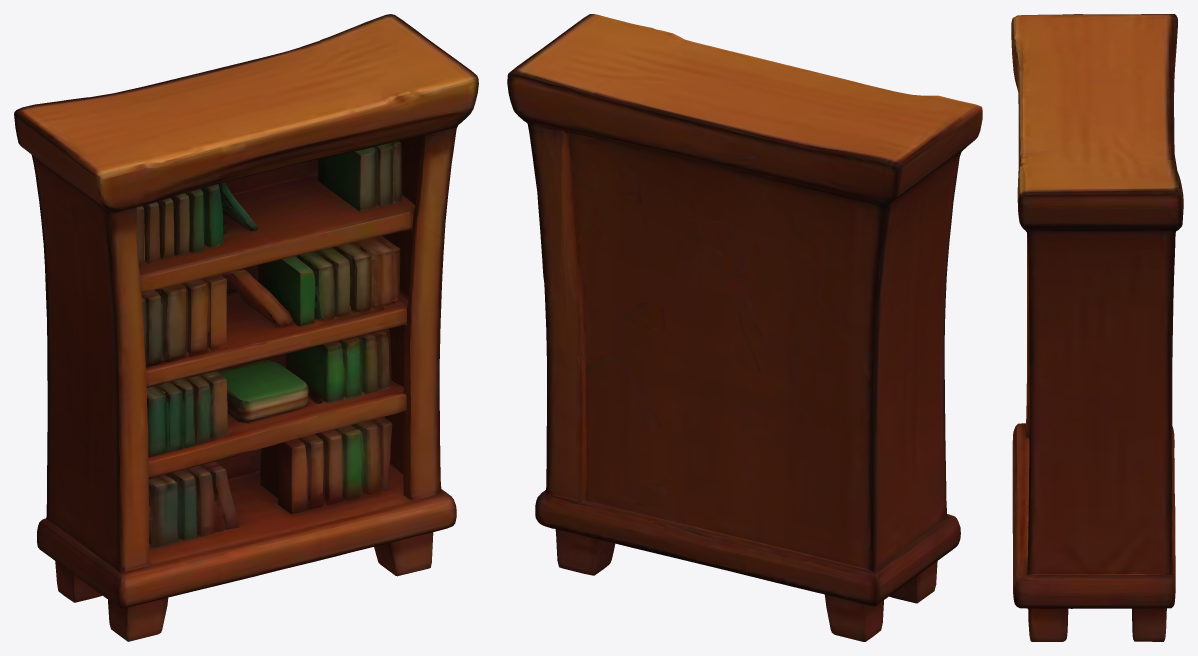
The model's file is bookcase.glb.
3 renders of one model, left to right at view 1: azimuth 30°, elevation 25°; view 2: azimuth 150°, elevation 25°; view 3: azimuth 270°, elevation 25°, orthographic. The views are drawn at different scales.
Visible parts, largest first — view 1: world; view 2: world; view 3: world.
Part boxes in pixels (<box>): world: <box>14,14,478,641</box>; world: <box>507,14,982,641</box>; world: <box>1011,14,1183,641</box>.
Bounding box in the file's own units: 0.8272 × 0.9995 × 0.3328.
1 material, 1 textured.
